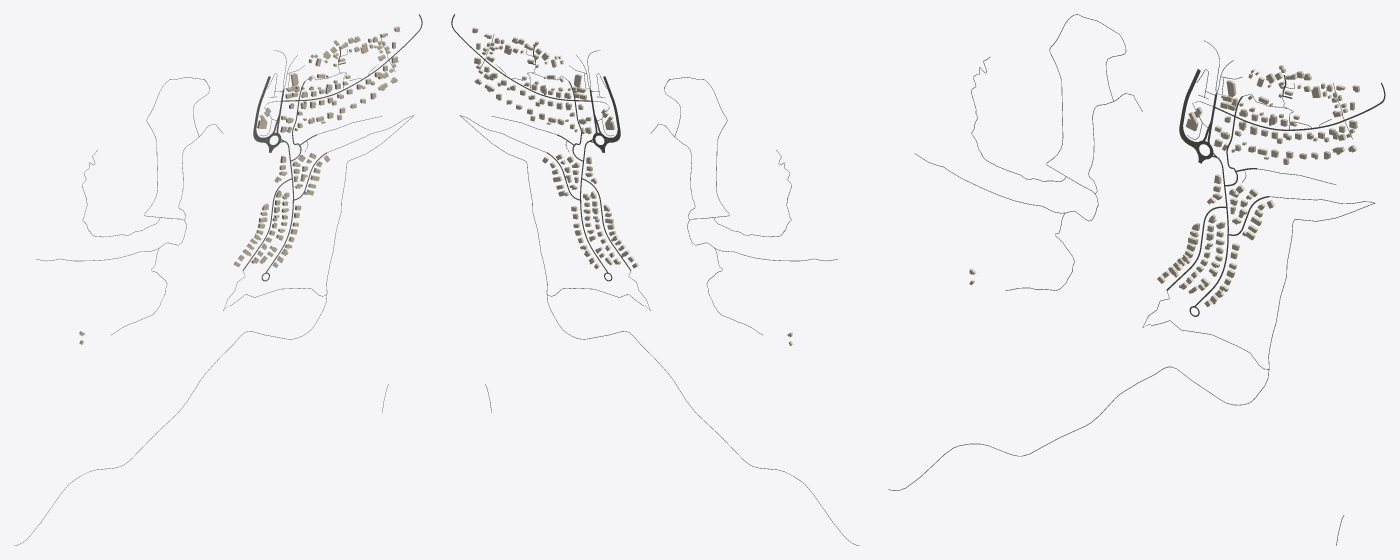
File: historic-palestine-09_23_3507_3179.glb
3 views of the same model, side by side, from view 1: azimuth 30°, elevation 25°; view 2: azimuth 150°, elevation 25°; view 3: azimuth 330°, elevation 25° (orthographic). The views are drawn at different scales.
Visible parts, largest first — view 1: Road .006; view 2: Road .006; view 3: Road .006.
Part boxes in pixels (x1,y1,x2,y2): Road .006: (36,77,209,261); Road .006: (664,77,837,261); Road .006: (914,14,1126,221).
Size of the model in its own units: 1219 by 1236 by 8.7.
